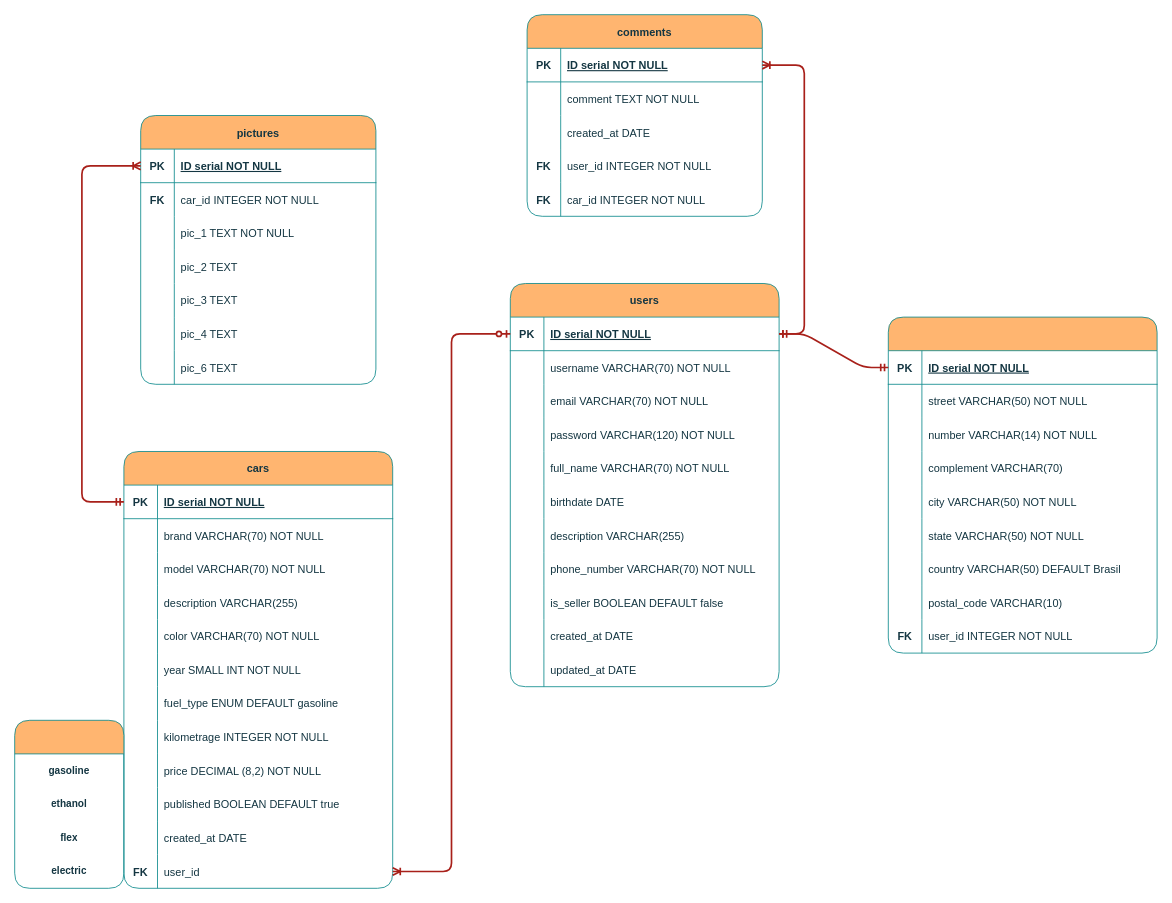
The diagram is 1172 pixels wide and 903 high, and some of its shapes have lost their labels. The box of each missing label's shape, as (x1, y1, x2, y2) in pixels:
addresses: (887, 316, 1157, 653)
ENUM fuel_type: (14, 719, 124, 888)
